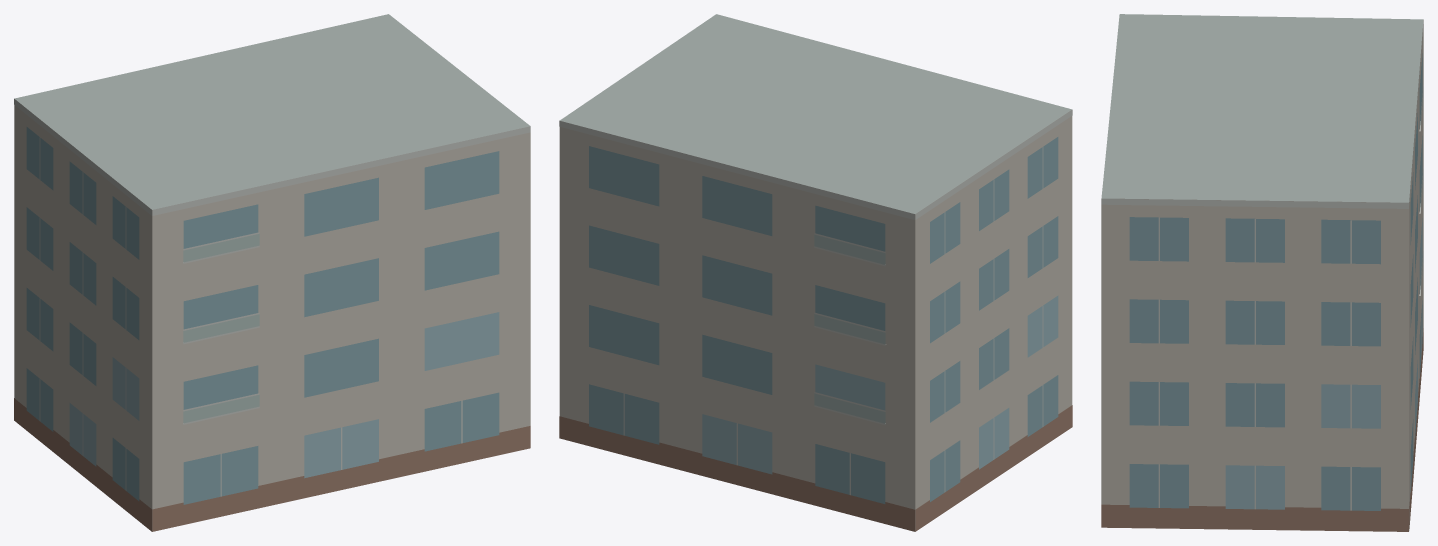
Rendered from survey-upis-32638810.glb.
3 renders of one model, left to right at view 1: azimuth 30°, elevation 25°; view 2: azimuth 150°, elevation 25°; view 3: azimuth 270°, elevation 25°, orthographic. The views are drawn at different scales.
Parts seen in each view (by area): view 1: survey-upis-32638810.tmp; view 2: survey-upis-32638810.tmp; view 3: survey-upis-32638810.tmp.
Part boxes in pixels (box(x1,y1,x2,y2)): survey-upis-32638810.tmp: box(14, 14, 530, 531); survey-upis-32638810.tmp: box(559, 14, 1072, 531); survey-upis-32638810.tmp: box(1101, 14, 1423, 531).
Size of the model in its own units: 15.75 by 12.8 by 11.36.
